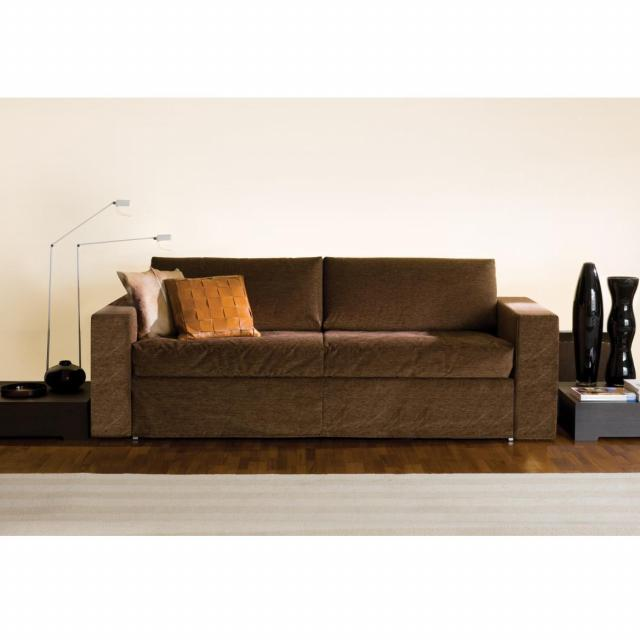Sofa: (88, 256, 560, 440)
